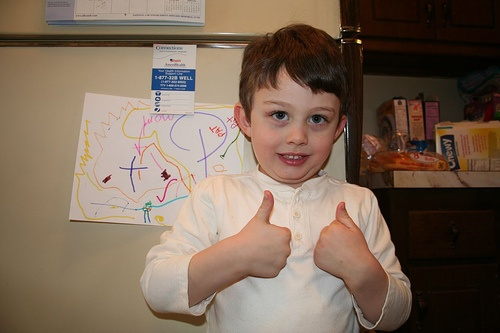head: (233, 24, 352, 182)
person: (134, 18, 418, 333)
